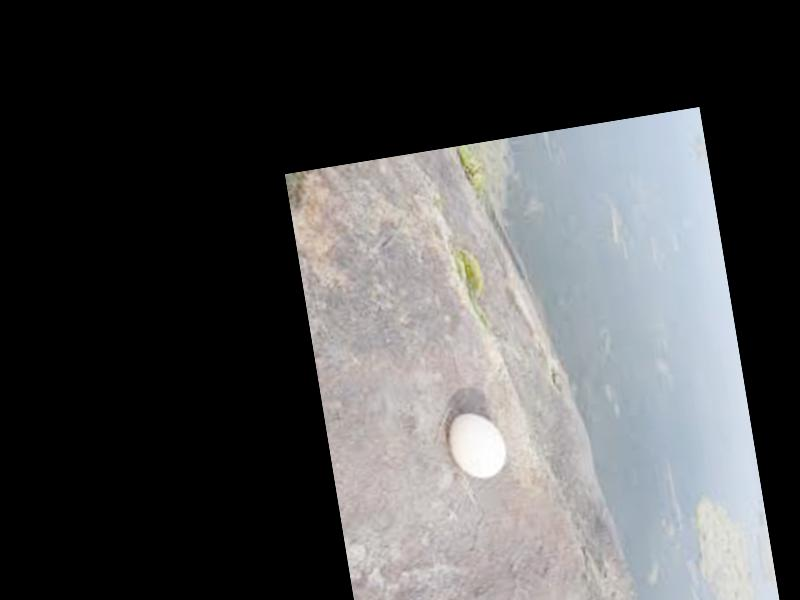Eggs: (446, 409, 511, 486)
